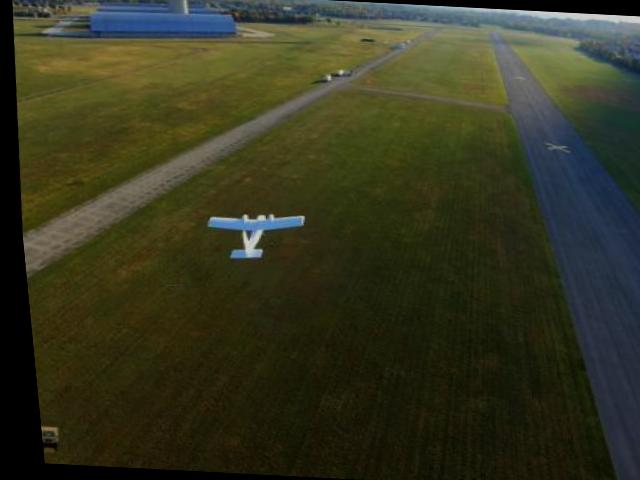uav: (198, 202, 307, 264)
